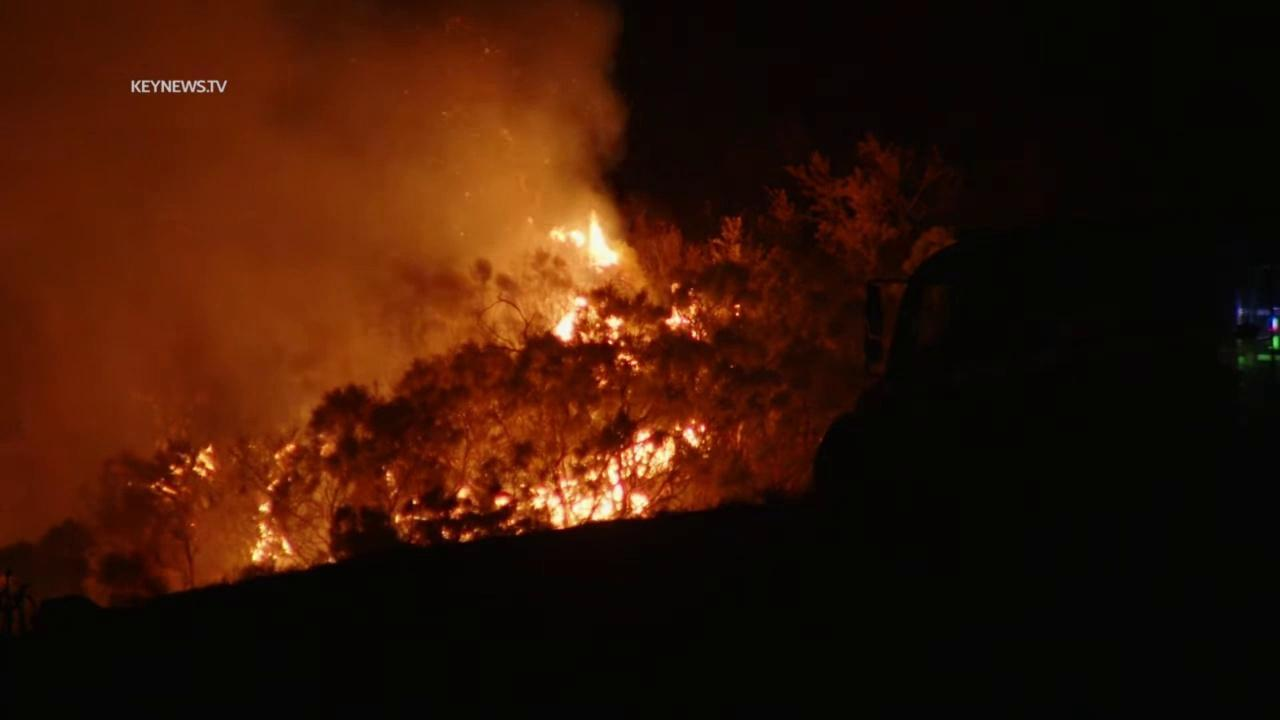fire: (494, 204, 711, 536), (379, 463, 490, 545), (248, 439, 305, 570), (146, 440, 226, 500), (317, 431, 343, 460)
smoke: (0, 0, 649, 637)
